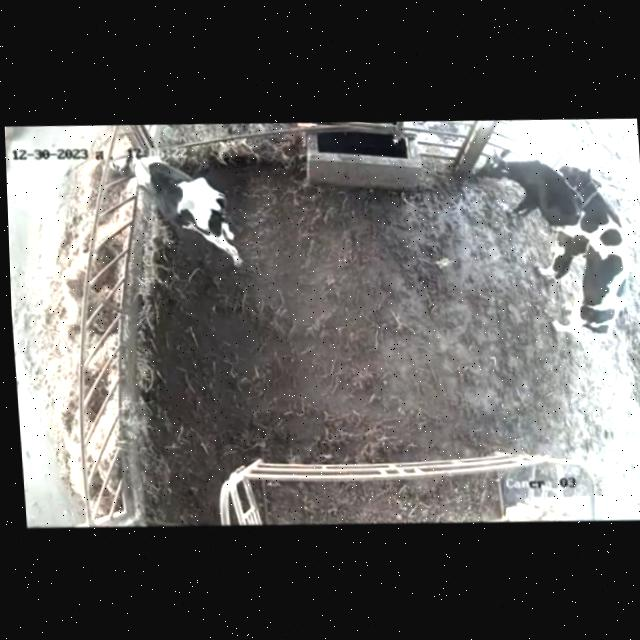eat: (71, 141, 180, 212)
ride: (537, 155, 640, 369)
stand: (468, 146, 587, 283)
